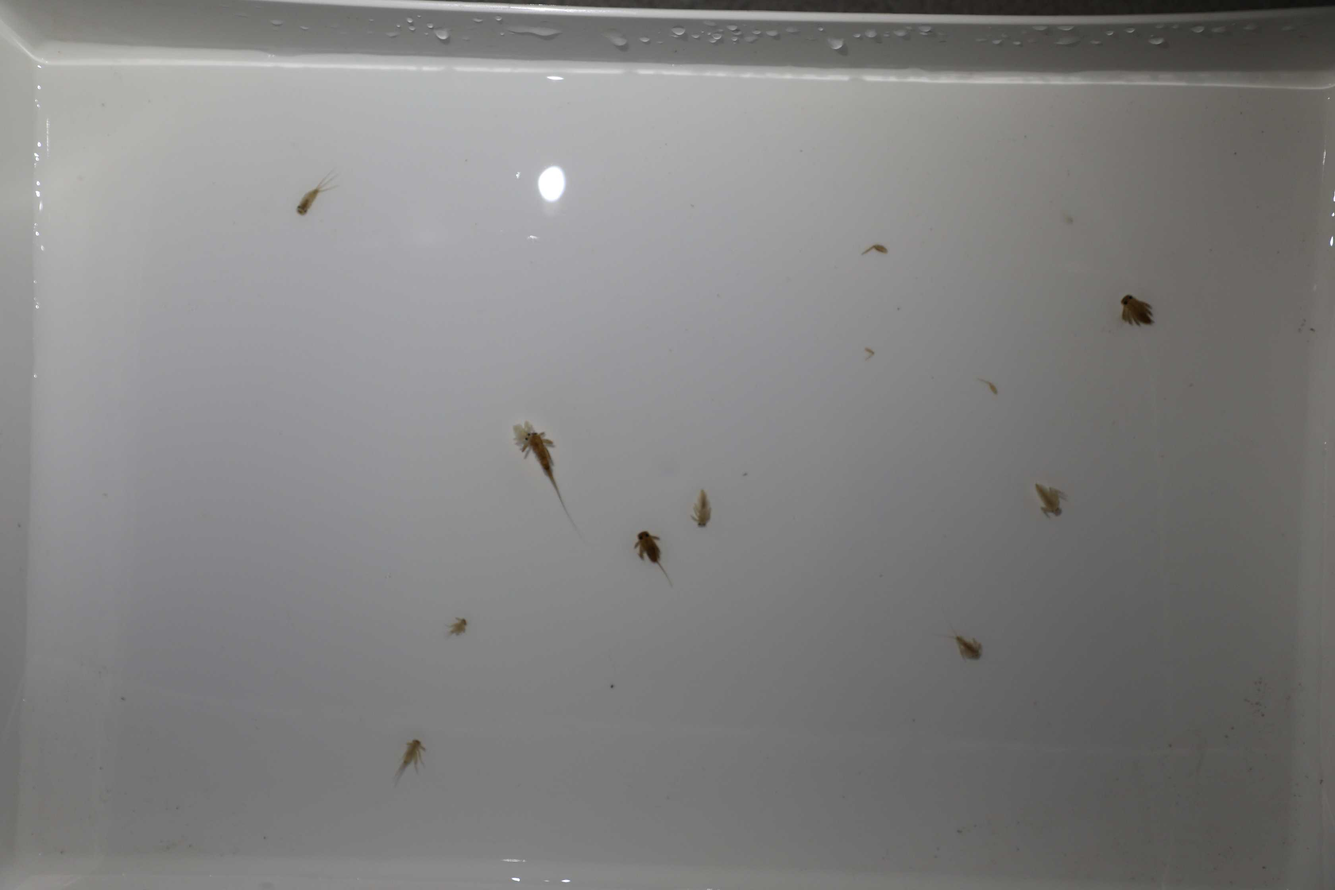Mayfly: (520, 431, 586, 537), (629, 528, 684, 594), (383, 731, 426, 799), (292, 167, 348, 215), (1113, 284, 1157, 338), (949, 627, 989, 667), (1029, 479, 1067, 520), (690, 484, 712, 535), (438, 613, 474, 641)
